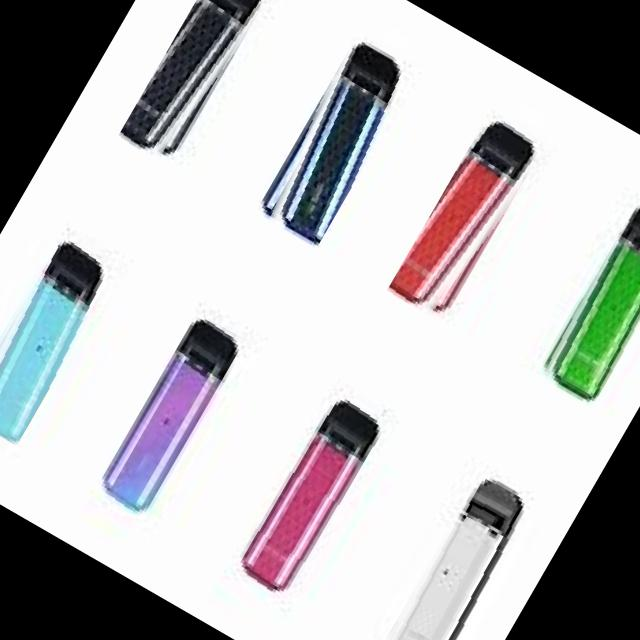Hazard: (244, 24, 423, 256), (386, 104, 558, 328), (88, 302, 258, 525), (232, 382, 400, 604), (372, 463, 539, 640), (0, 221, 124, 446), (117, 0, 280, 170), (530, 188, 640, 411)
